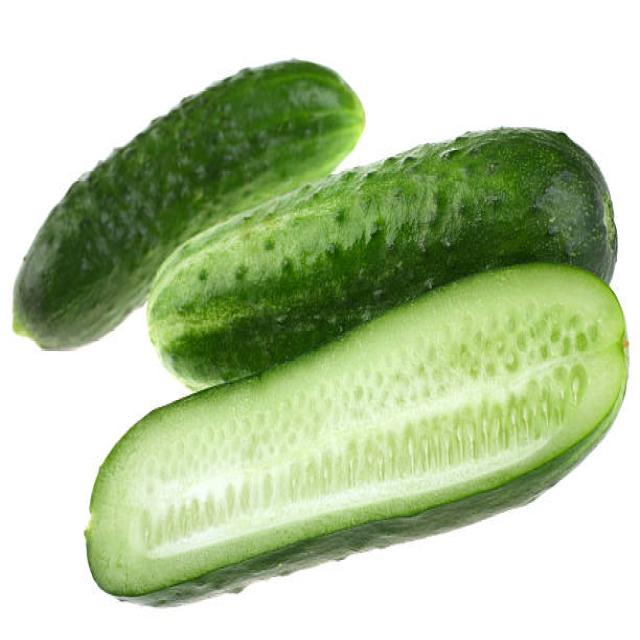cucumber: (85, 257, 630, 614), (147, 127, 619, 390), (15, 52, 365, 350)
